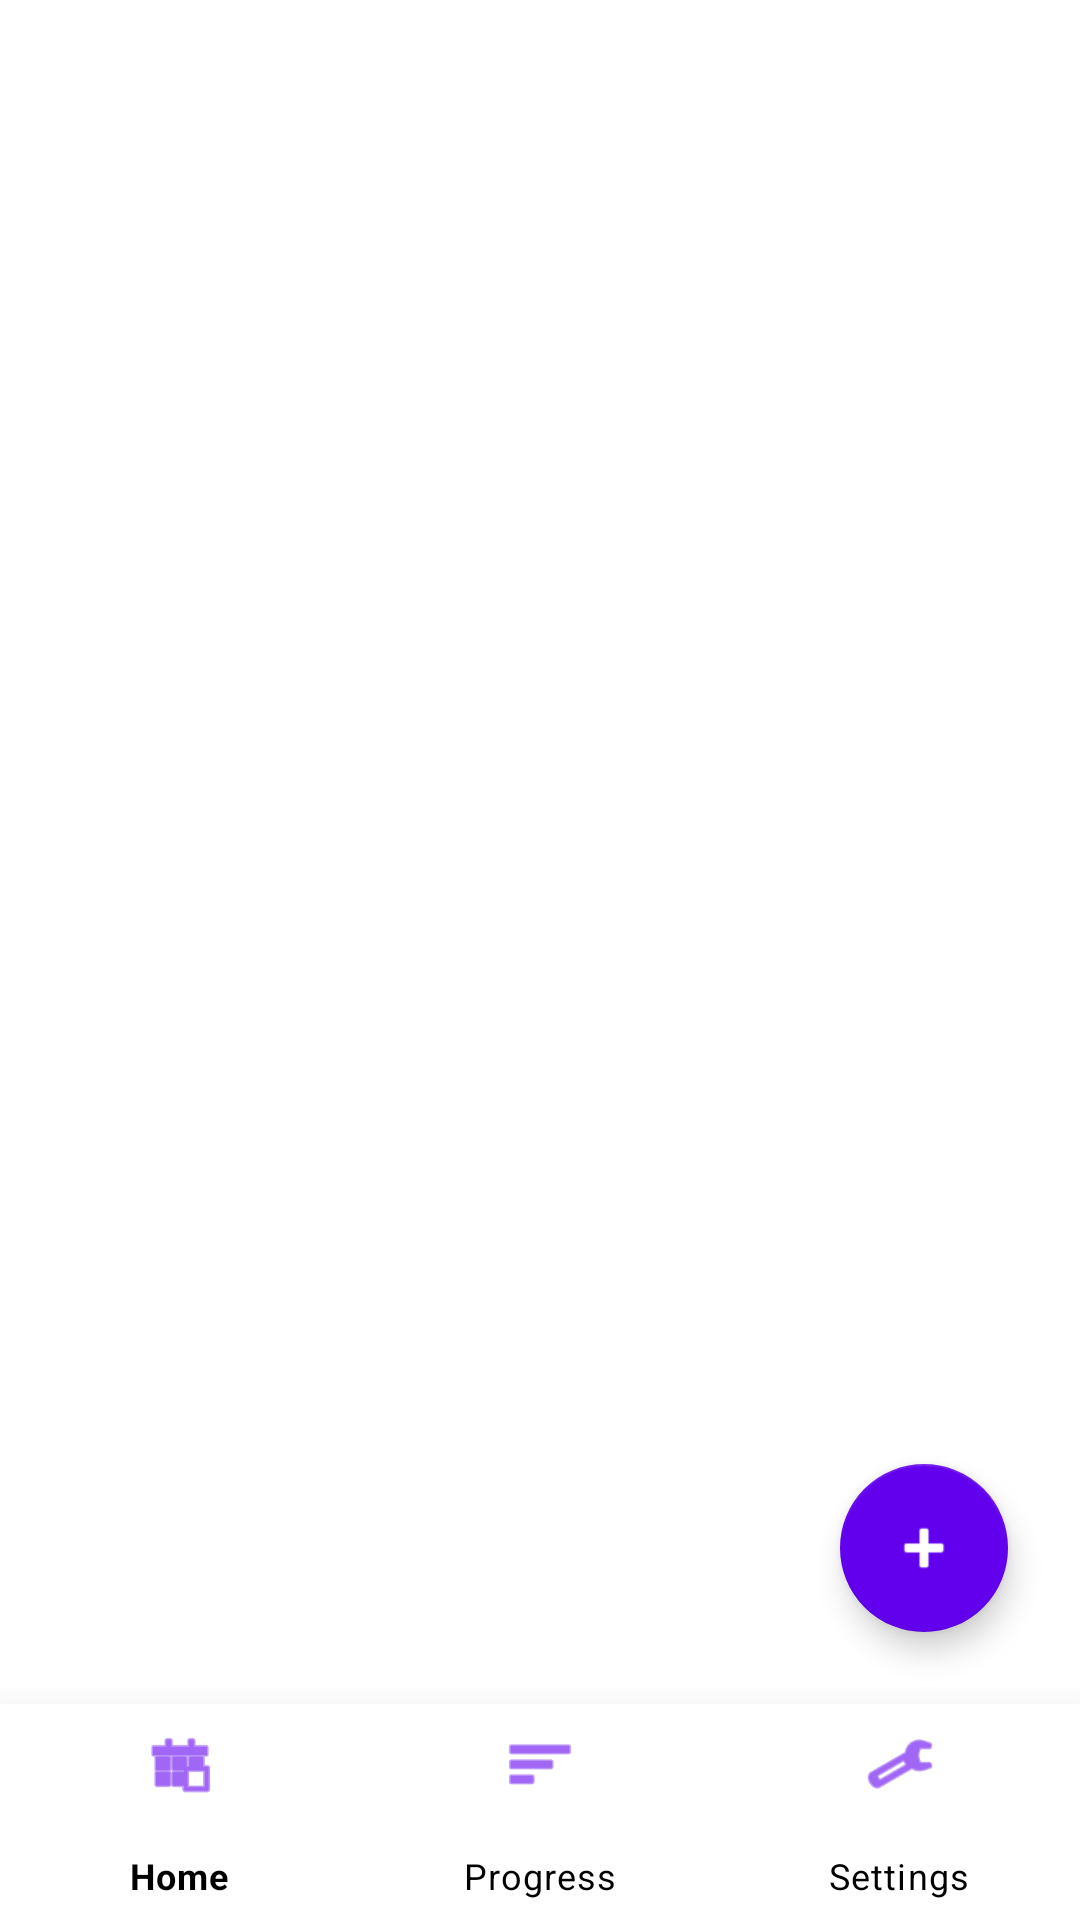

Icon click points for this 1080px×1920px phone screenshot, format (x,y):
Add Habit: (924,1548)
